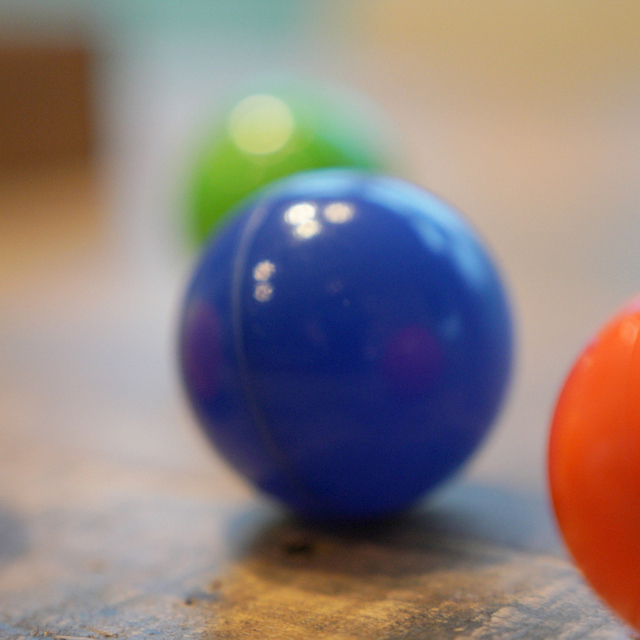Ball: (176, 171, 514, 526)
